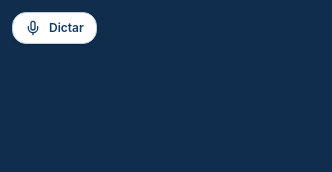
Test case: dictado grabado en localhost › graba audio real y solo entrega la transcripción al terminar
The image size is (332, 172).
Later steps or results of the test are not shown.
Click the button with aria-label "Dictar por voz" at (54, 28), box [12,12,97,44]
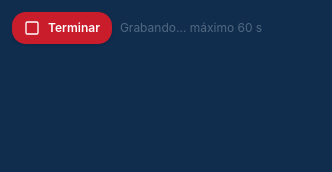
Expected: the button with aria-label "Terminar dictado" is shown, [12,12,112,44]
